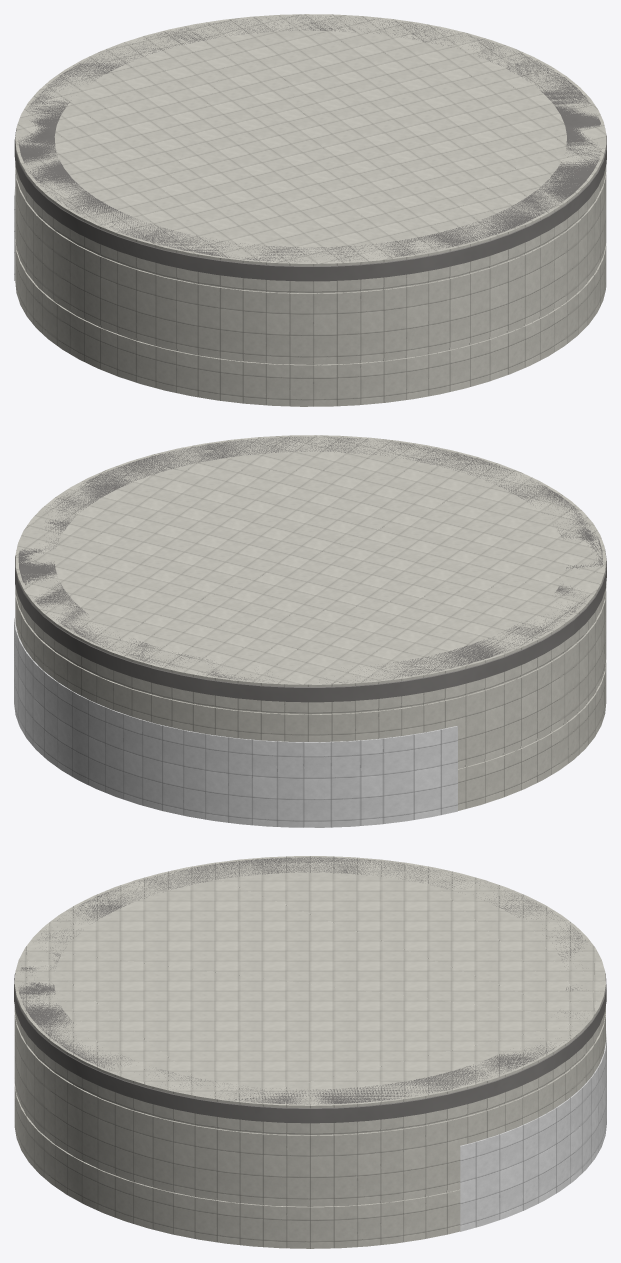
Rendered from ax_aero_15_fs3a_adapter.glb.
3 views of the same model, one above another, from view 1: azimuth 30°, elevation 25°; view 2: azimuth 150°, elevation 25°; view 3: azimuth 270°, elevation 25° (orthographic).
Visible parts, largest first — view 1: adapter, stack_ring; view 2: adapter, belly_tiles, stack_ring; view 3: adapter, stack_ring, belly_tiles.
Part boxes in pixels (bbox=[...]): adapter: bbox=[15, 14, 606, 406]; stack_ring: bbox=[14, 15, 606, 281]; adapter: bbox=[15, 435, 606, 810]; belly_tiles: bbox=[14, 618, 457, 827]; stack_ring: bbox=[15, 436, 606, 702]; adapter: bbox=[14, 856, 605, 1248]; stack_ring: bbox=[14, 857, 606, 1123]; belly_tiles: bbox=[460, 1031, 606, 1231].
Bounding box in the file's own units: 3.76 × 1 × 3.76.
Materials: 3 (3 with a texture image).
